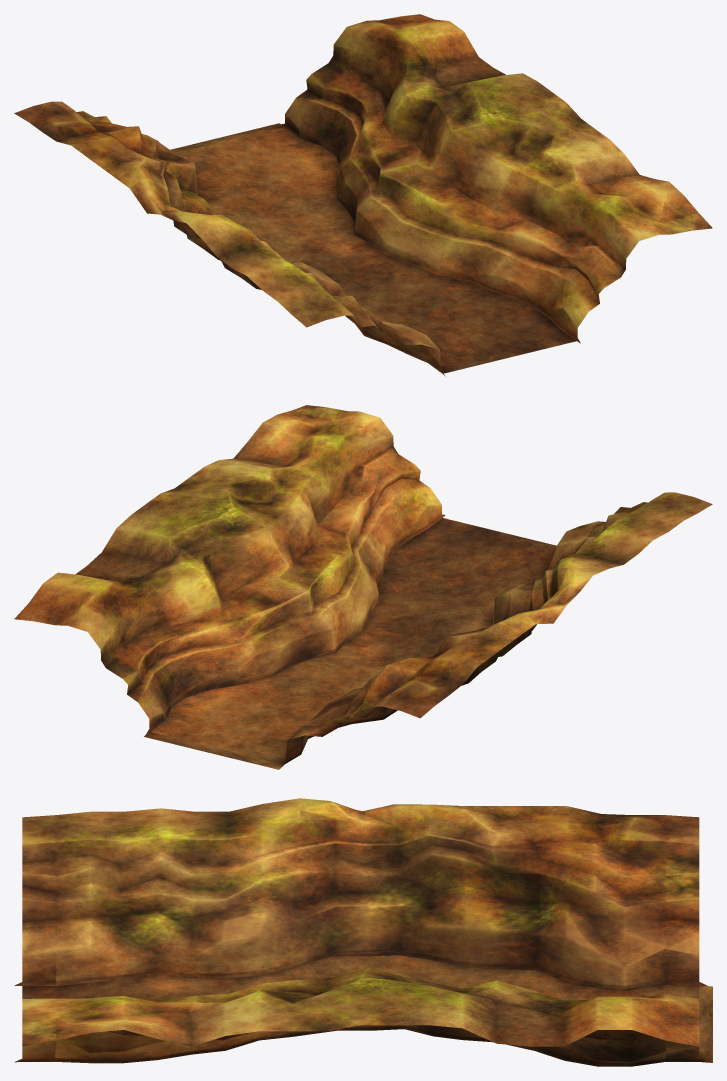
File: chunk-curved.obj
3 renders of one model, top to bottom at view 1: azimuth 30°, elevation 25°; view 2: azimuth 150°, elevation 25°; view 3: azimuth 270°, elevation 25°, orthographic. The views are drawn at different scales.
Parts seen in each view (by area): view 1: Curved; view 2: Curved; view 3: Curved.
Part boxes in pixels (box(x1,y1,x2,y2)): Curved: box(14, 14, 712, 376); Curved: box(14, 405, 712, 769); Curved: box(14, 798, 712, 1066).
Size of the model in its own units: 241 by 58.09 by 310.
1 material, 1 textured.
